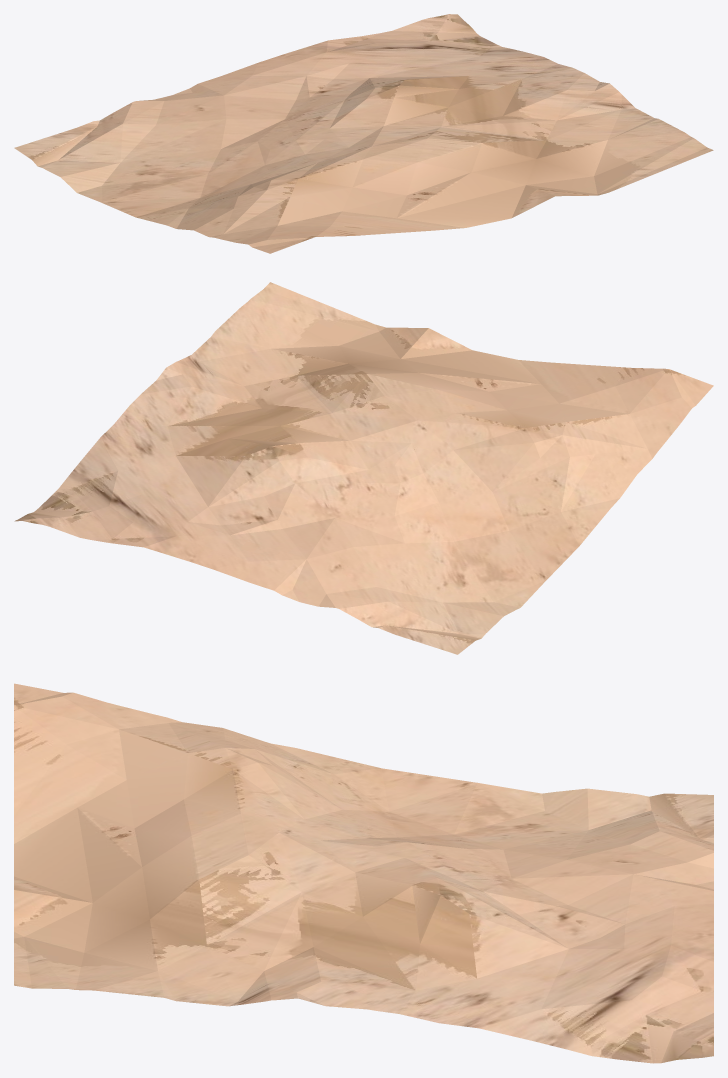
The picture shows the model from 3 angles, top to bottom: view 1: azimuth 30°, elevation 25°; view 2: azimuth 150°, elevation 25°; view 3: azimuth 270°, elevation 25°; orthographic projection. The views are drawn at different scales.
Bounding box in the file's own units: 1.04 × 0.1993 × 1.04.
2 materials, 2 textured.
